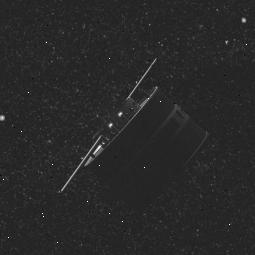double_start: (77, 72, 216, 211)
